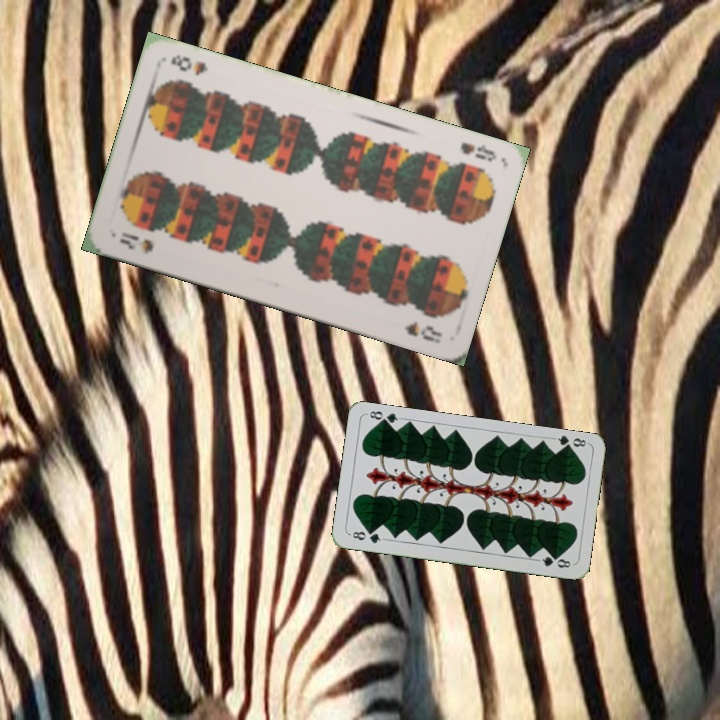G8: (550, 432, 590, 453), (346, 527, 387, 546)
S8: (456, 138, 500, 165), (115, 228, 156, 256)
